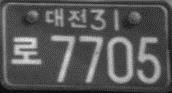0: (105, 34, 134, 84)
1: (112, 7, 121, 32)
3: (89, 8, 106, 30)
5: (136, 34, 162, 85)
7: (49, 33, 77, 84), (76, 34, 104, 83)
대전_O: (45, 6, 87, 29)
로: (10, 36, 42, 66)
